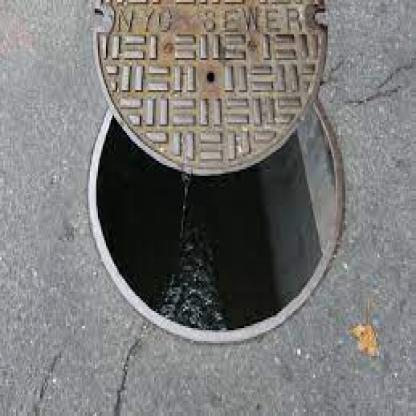closed manhole-not overflowing-: (88, 0, 365, 366)
